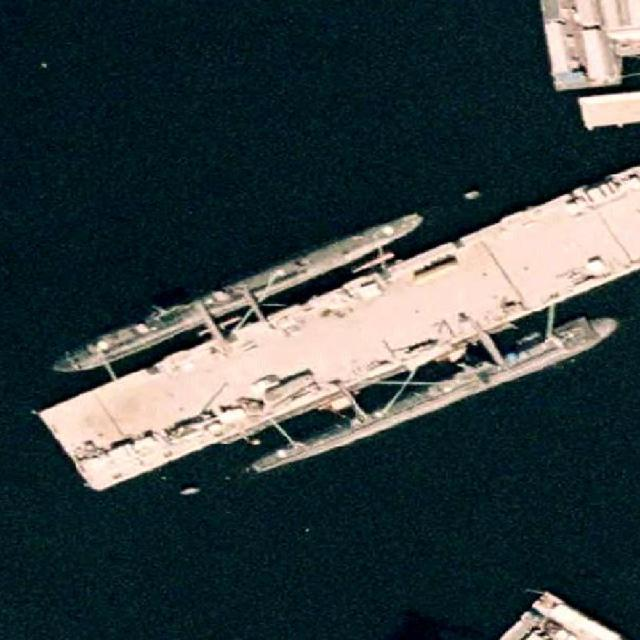Dock: (41, 180, 628, 499)
Submarine: (44, 208, 431, 381), (240, 308, 627, 481)
